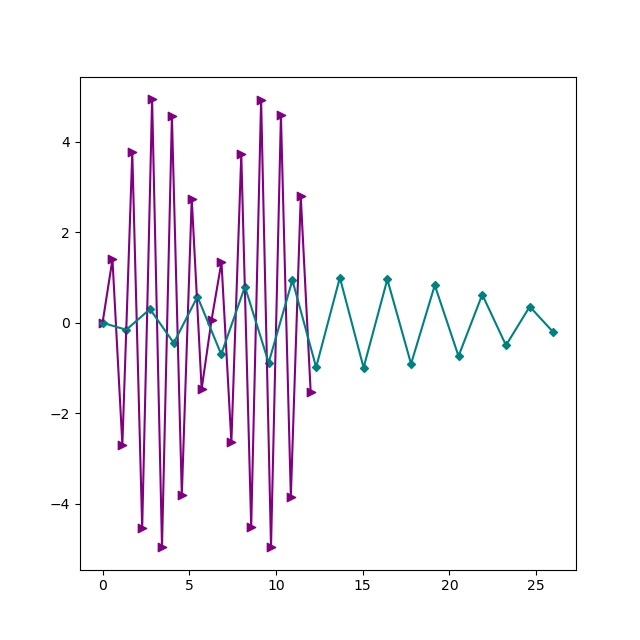diamond: (99, 319, 108, 328), (122, 326, 131, 335), (146, 305, 155, 314), (170, 339, 179, 348), (193, 293, 202, 302), (217, 350, 226, 359), (241, 283, 250, 292), (265, 359, 274, 368), (288, 276, 297, 285), (312, 363, 321, 372), (336, 274, 345, 283), (360, 364, 369, 373), (383, 275, 392, 284), (407, 360, 416, 369), (431, 281, 440, 290), (455, 352, 464, 361), (478, 291, 487, 300), (502, 341, 511, 350), (526, 303, 535, 312), (549, 328, 558, 337)
triangle_right: (98, 318, 109, 329), (107, 254, 118, 265), (117, 440, 128, 451), (127, 147, 138, 158), (137, 523, 148, 534), (147, 94, 158, 105), (157, 542, 168, 553), (167, 111, 178, 122), (177, 490, 188, 501), (187, 194, 198, 205), (197, 384, 208, 395), (207, 315, 218, 326), (216, 257, 227, 268), (226, 437, 237, 448), (236, 149, 247, 160), (246, 522, 257, 533), (256, 95, 267, 106), (266, 542, 277, 553), (276, 110, 287, 121), (286, 492, 297, 503), (296, 191, 307, 202), (306, 387, 317, 398)
